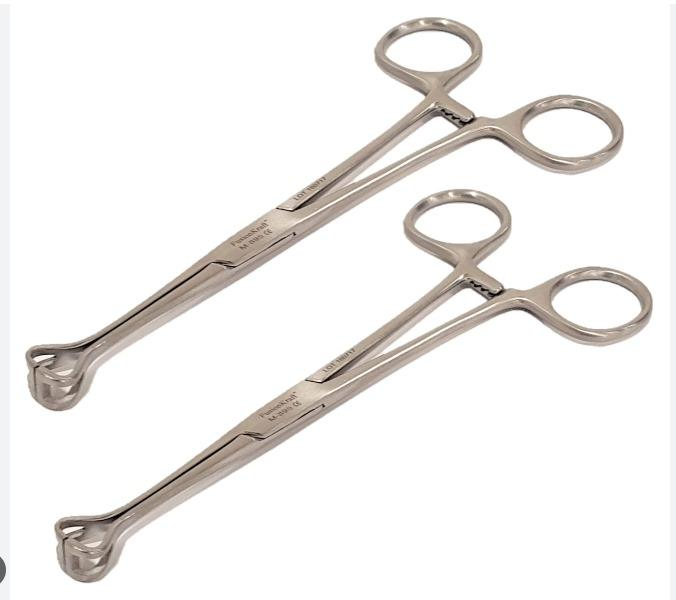Babcock Forceps: (53, 184, 663, 590), (16, 13, 628, 414)
